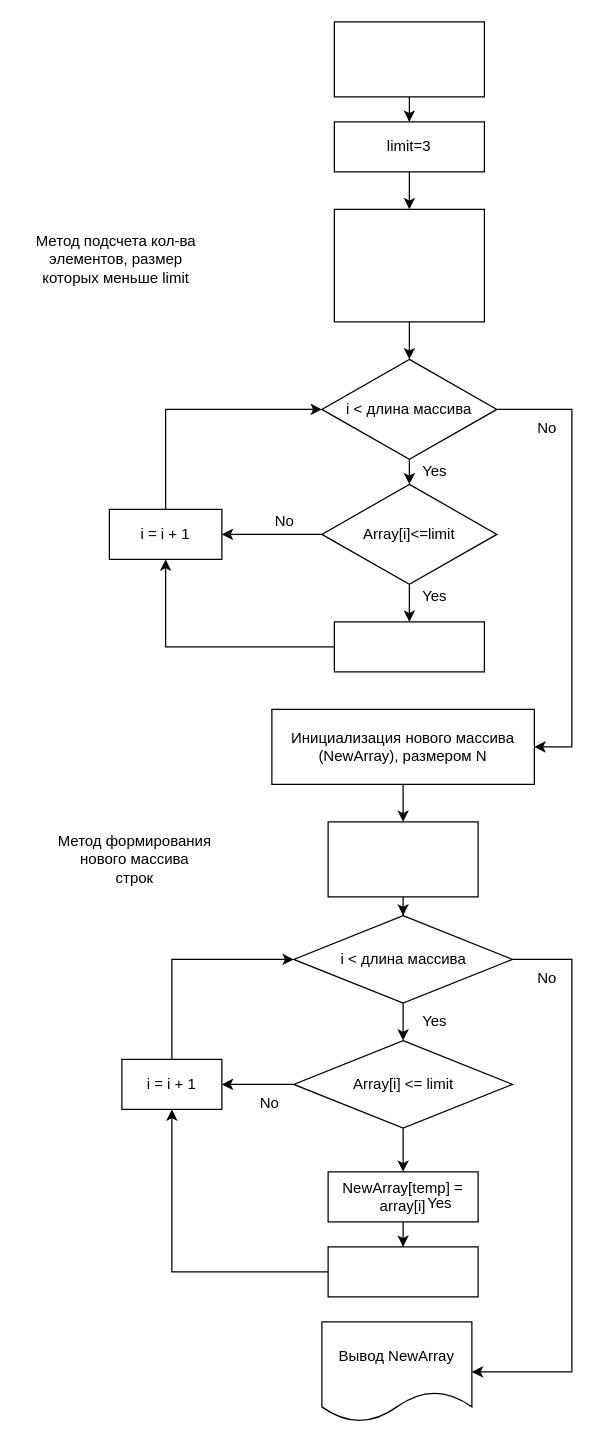
Image size: 604x1444. Some labels were removed from this diagram. Here are the shapes that lost their labels. From the top down, the centre of each, then its label:
At (x=408, y=59): "Ввод массива Array".
At (x=408, y=265): "счетчики: N=0 i=0".
At (x=408, y=646): "N=N + 1".
At (x=402, y=859): "счетчики temp = 0 i = 0".
At (x=402, y=1271): "temp = temp + 1".
